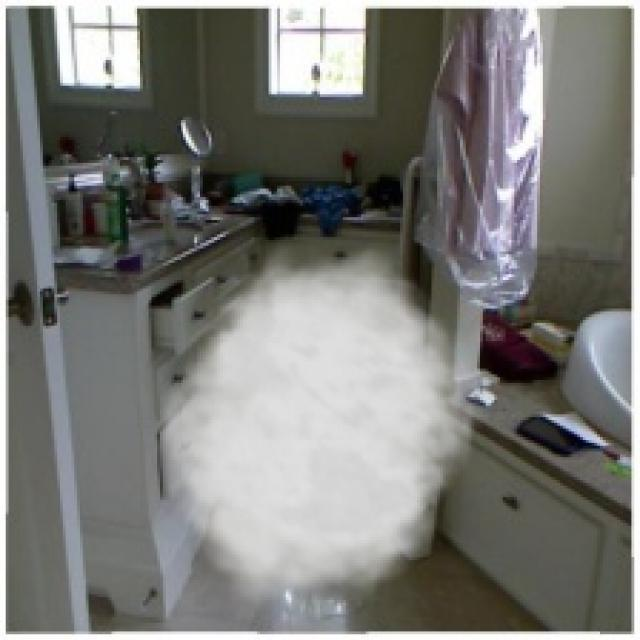Smoke: (148, 242, 492, 618)
